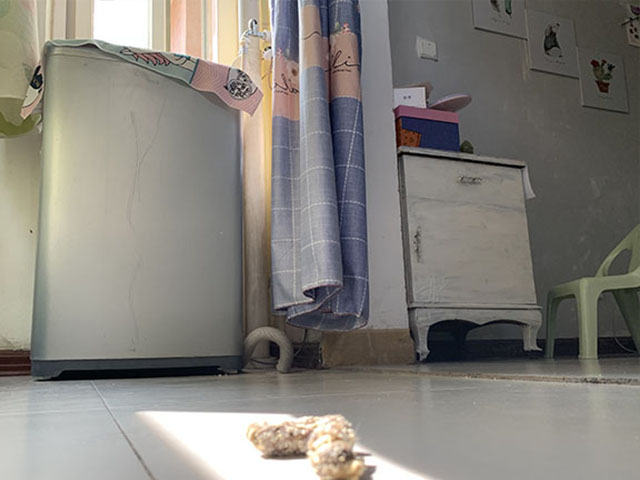cabinet: (396, 144, 546, 366)
curtain: (267, 1, 373, 335)
feces: (246, 412, 367, 480)
stool: (543, 218, 640, 361)
wire: (240, 332, 306, 370)
